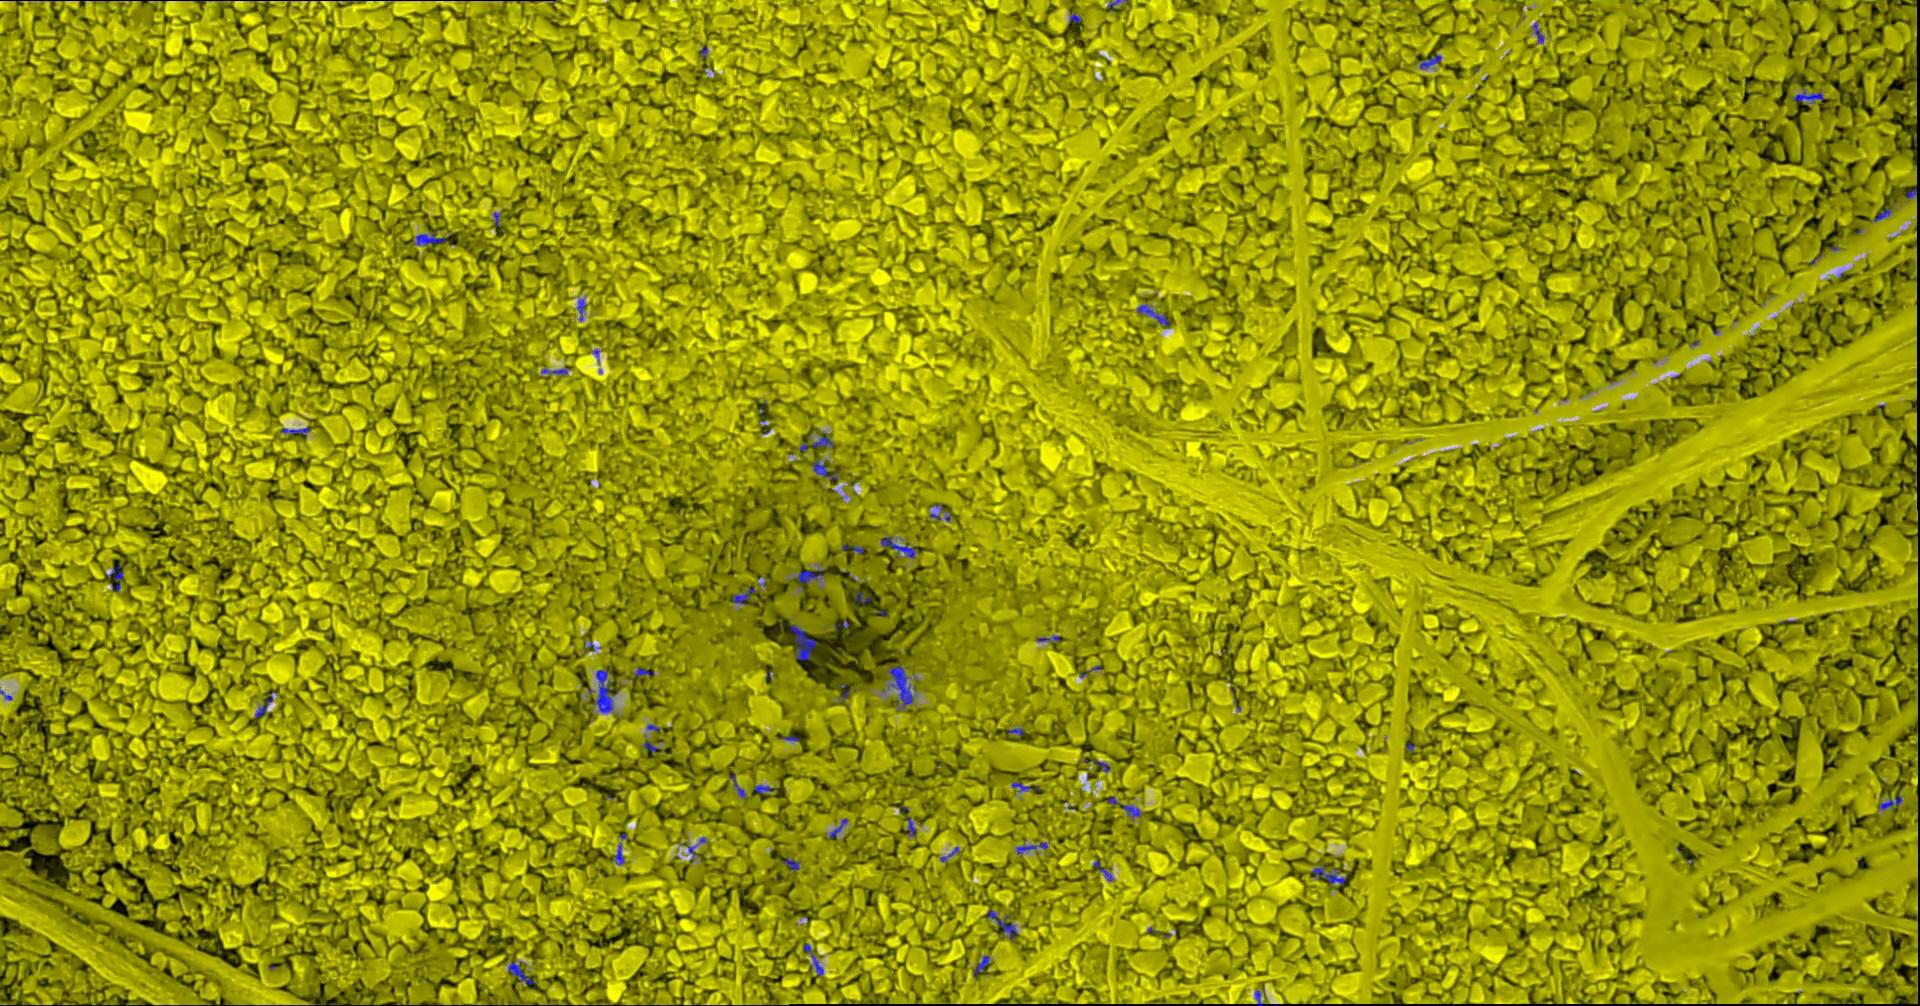ant: (888, 666, 916, 706), (789, 622, 817, 661), (985, 909, 1018, 941), (592, 669, 616, 713), (880, 536, 916, 558), (1137, 304, 1168, 325), (803, 942, 823, 976), (799, 432, 833, 451), (1310, 865, 1345, 884), (507, 962, 533, 984), (796, 569, 823, 589), (254, 691, 274, 716), (415, 229, 444, 245), (105, 564, 123, 591), (612, 832, 626, 864), (731, 587, 756, 605), (1878, 793, 1902, 810), (1015, 841, 1048, 854), (1092, 860, 1112, 880), (971, 955, 989, 977), (730, 774, 745, 798), (829, 818, 847, 838), (1793, 90, 1823, 102), (1418, 55, 1441, 69), (811, 459, 828, 476), (1083, 760, 1109, 771), (1121, 804, 1140, 819), (1531, 22, 1544, 43), (780, 857, 799, 871), (643, 741, 663, 752), (1873, 208, 1891, 221), (279, 427, 309, 434), (855, 589, 870, 603), (905, 815, 916, 836), (541, 367, 568, 375), (577, 298, 585, 320), (632, 667, 654, 676), (753, 784, 775, 793)
